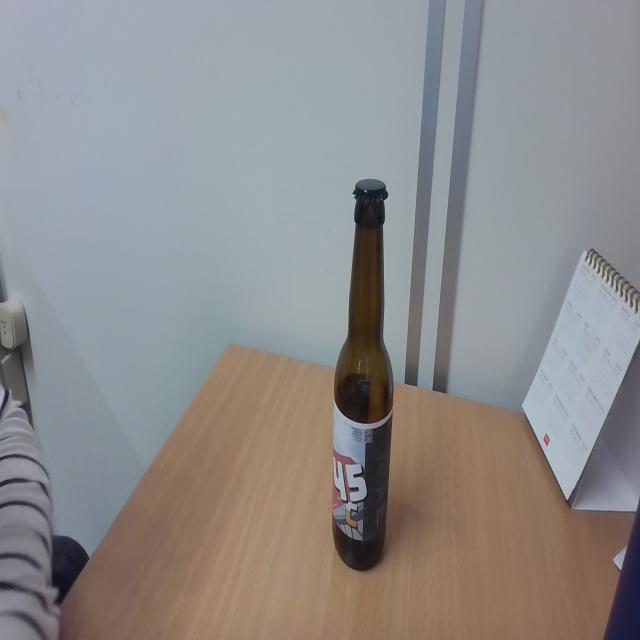Bottle: (331, 178, 395, 573)
Cap: (350, 175, 390, 207)
Label: (332, 412, 390, 541)
